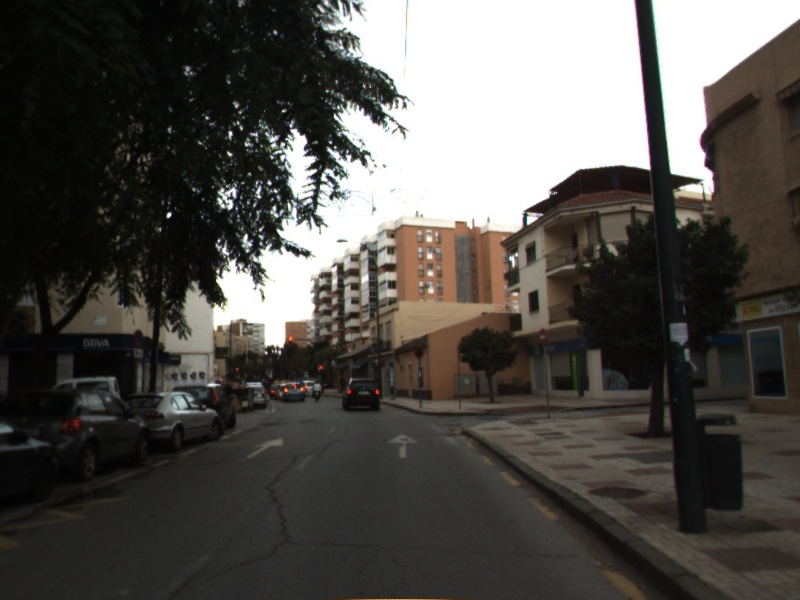STRAIGHT: (384, 431, 421, 460), (244, 435, 286, 460)
